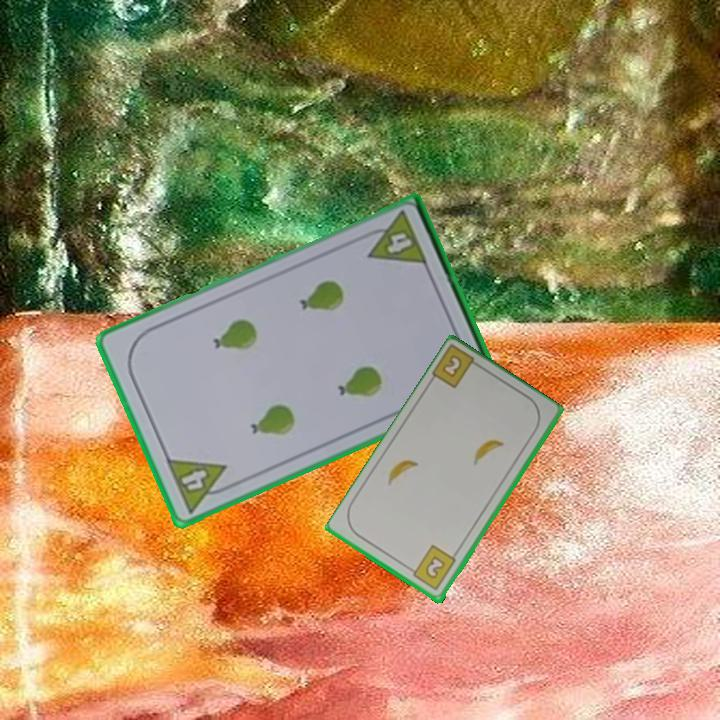2b: (405, 542, 459, 594), (438, 352, 465, 381)
4p: (357, 207, 431, 269), (162, 455, 237, 516)
